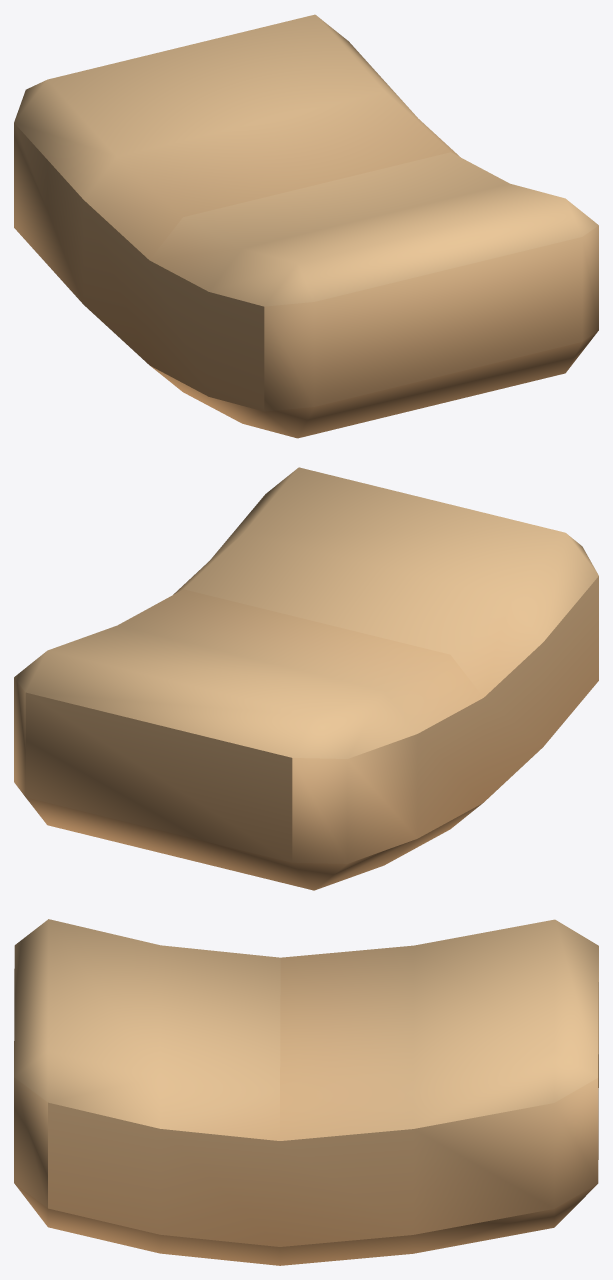
Rendered from sack.glb.
3 renders of one model, top to bottom at view 1: azimuth 30°, elevation 25°; view 2: azimuth 150°, elevation 25°; view 3: azimuth 270°, elevation 25°, orthographic.
Parts seen in each view (by area): view 1: sack; view 2: sack; view 3: sack.
Boxes of the visible parts, bbox=[...] form: sack: bbox=[14, 14, 598, 438]; sack: bbox=[14, 467, 598, 890]; sack: bbox=[14, 919, 598, 1265].
Size of the model in its own units: 0.1065 by 0.0647 by 0.1595.
Materials: 1 (1 with a texture image).
